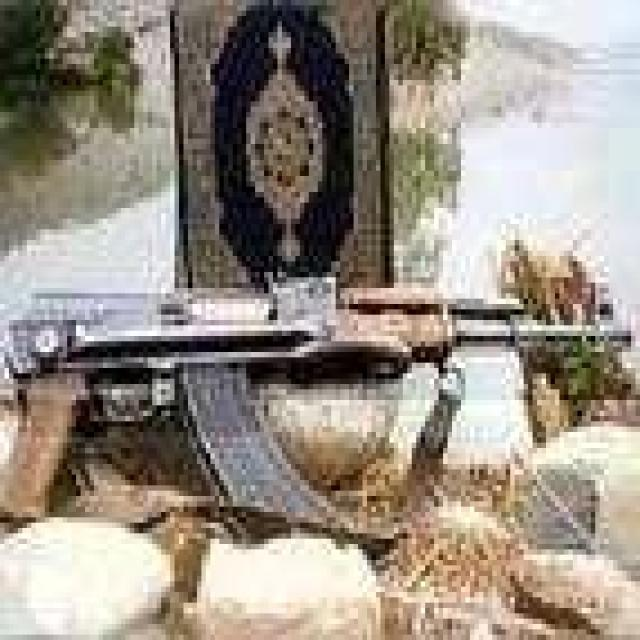Rifle: (18, 272, 614, 528)
